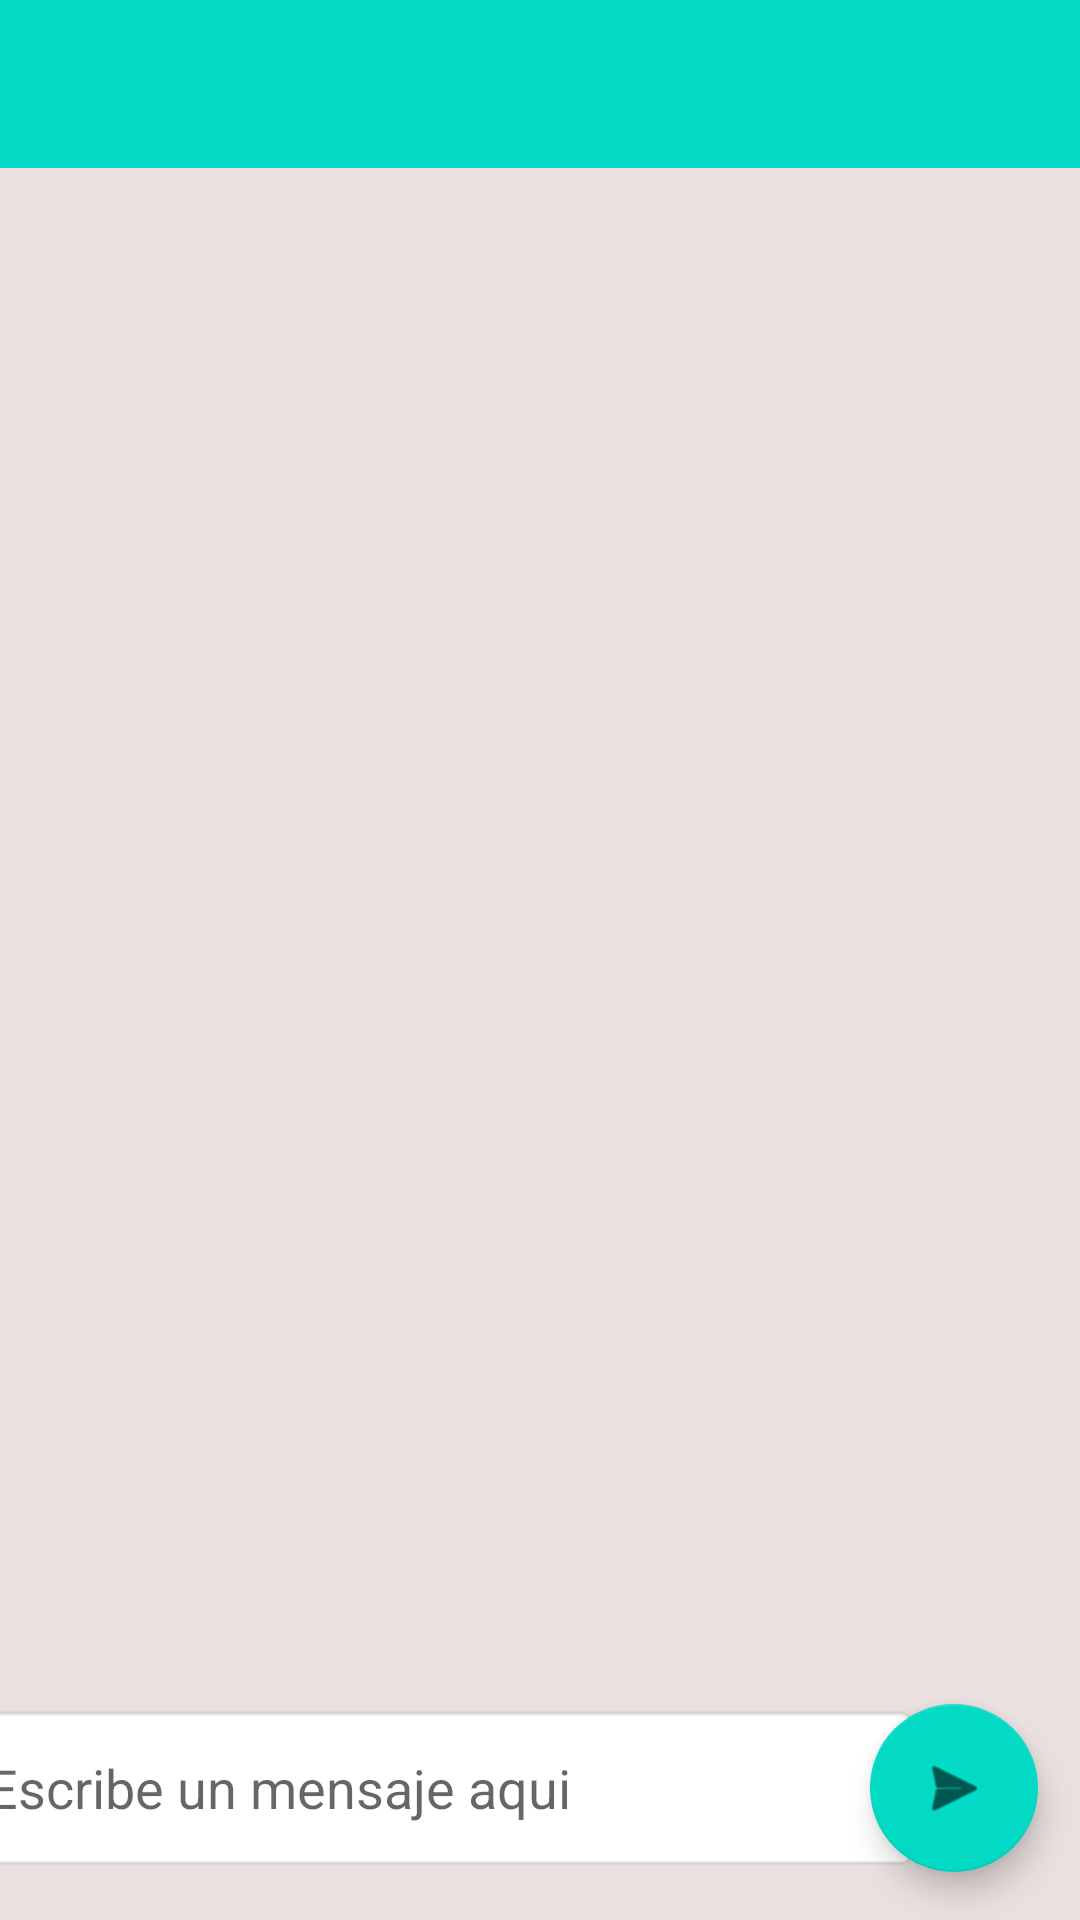

Point at icon controls on the screen. Image size 1080 x 1920, points as (x,y).
Enviar: (954,1788)
